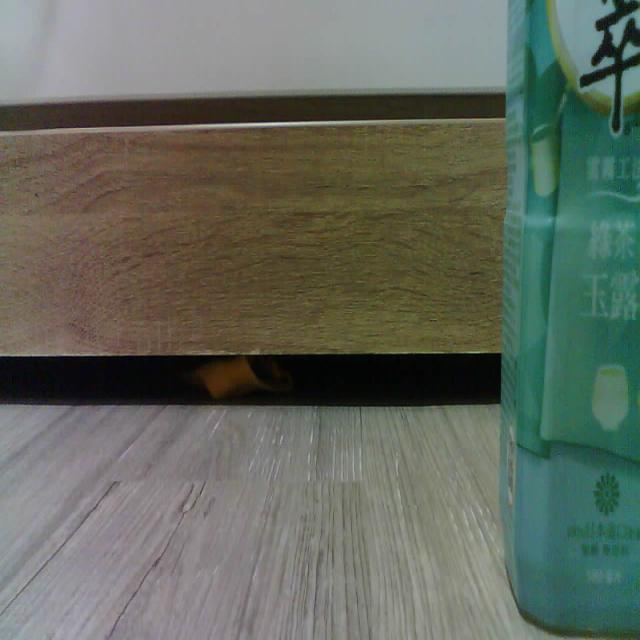bottle: (500, 0, 640, 633)
